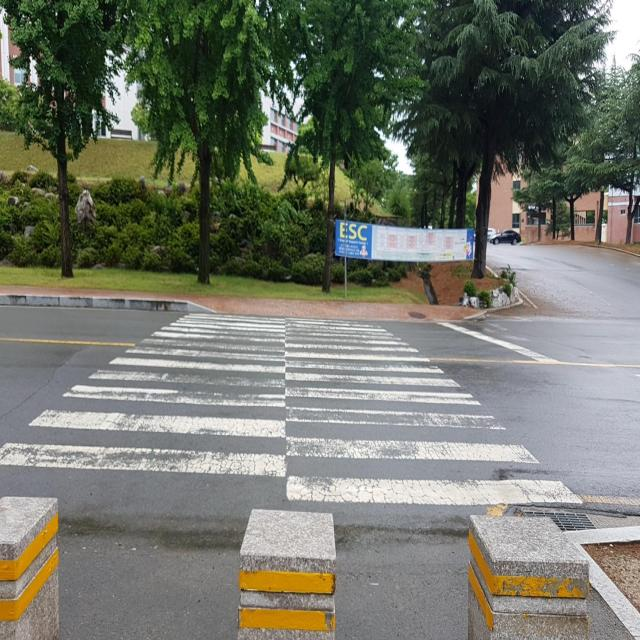횡단보도: (0, 306, 584, 509)
